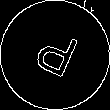P_SW: (28, 24, 82, 86)
